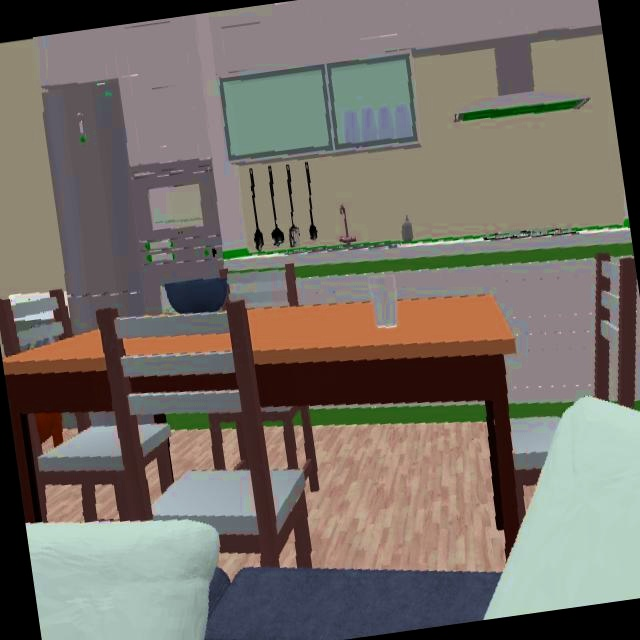cabinet: (34, 0, 601, 248)
chair: (99, 303, 312, 567), (29, 415, 129, 522), (594, 253, 639, 408), (511, 418, 559, 519), (0, 289, 71, 355), (139, 426, 173, 490)
countertop: (223, 221, 633, 279)
fridge: (42, 81, 148, 333)
microwave: (131, 160, 221, 254)
oven: (142, 246, 224, 311)
pillow: (486, 397, 640, 618), (26, 520, 219, 640)
sink: (288, 206, 400, 255)
sofa: (205, 567, 500, 640)
stove: (484, 226, 578, 241)
table: (248, 296, 519, 548), (3, 331, 110, 521), (125, 334, 230, 355), (131, 373, 236, 393)
